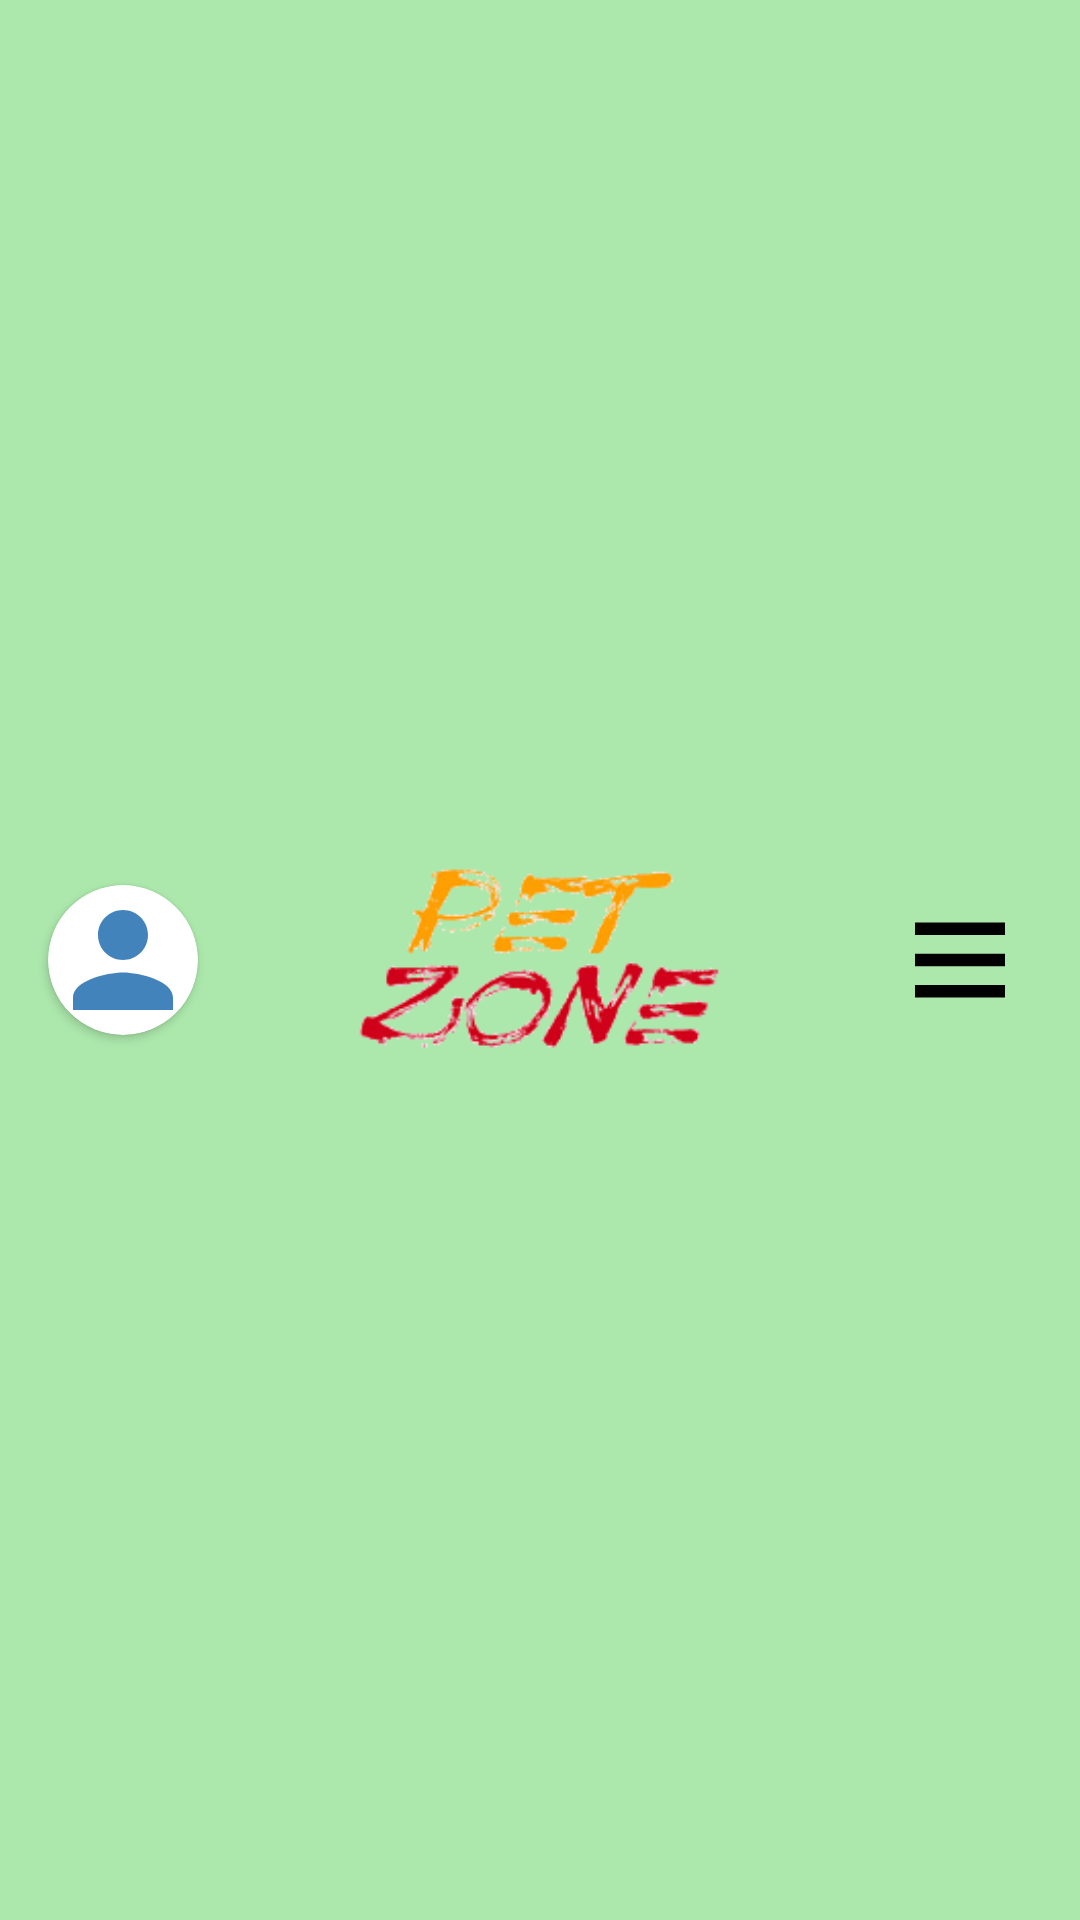

Icon bounding boxes for this 1080×1920 phone screenshot, format box(x1, y1, x2, y2):
menu: box(915, 922, 1005, 998)
no profile photo: box(48, 885, 198, 1035)
